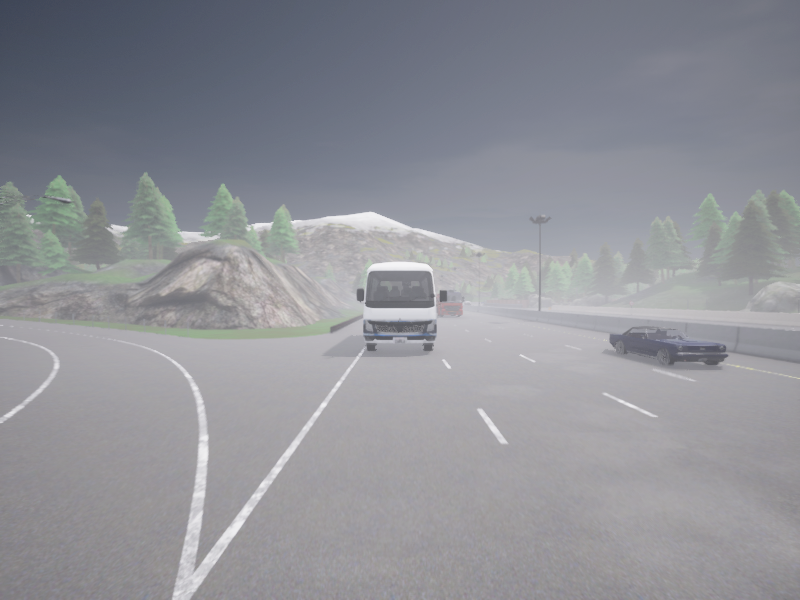vehicle: (357, 262, 446, 351), (609, 326, 728, 365), (436, 290, 463, 316), (463, 301, 470, 304), (482, 302, 485, 303)
